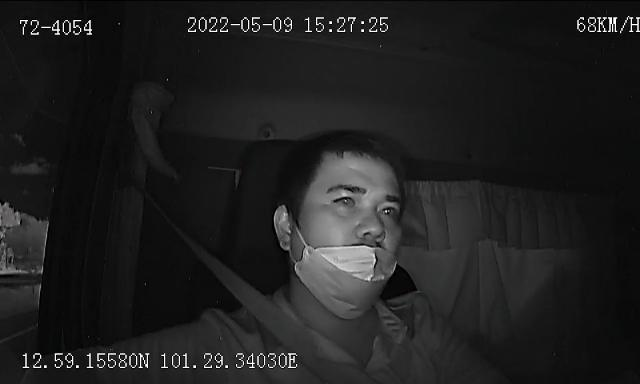SafeDriving: (326, 188, 364, 212), (374, 197, 404, 222)
Seatbelt: (168, 222, 374, 384)
